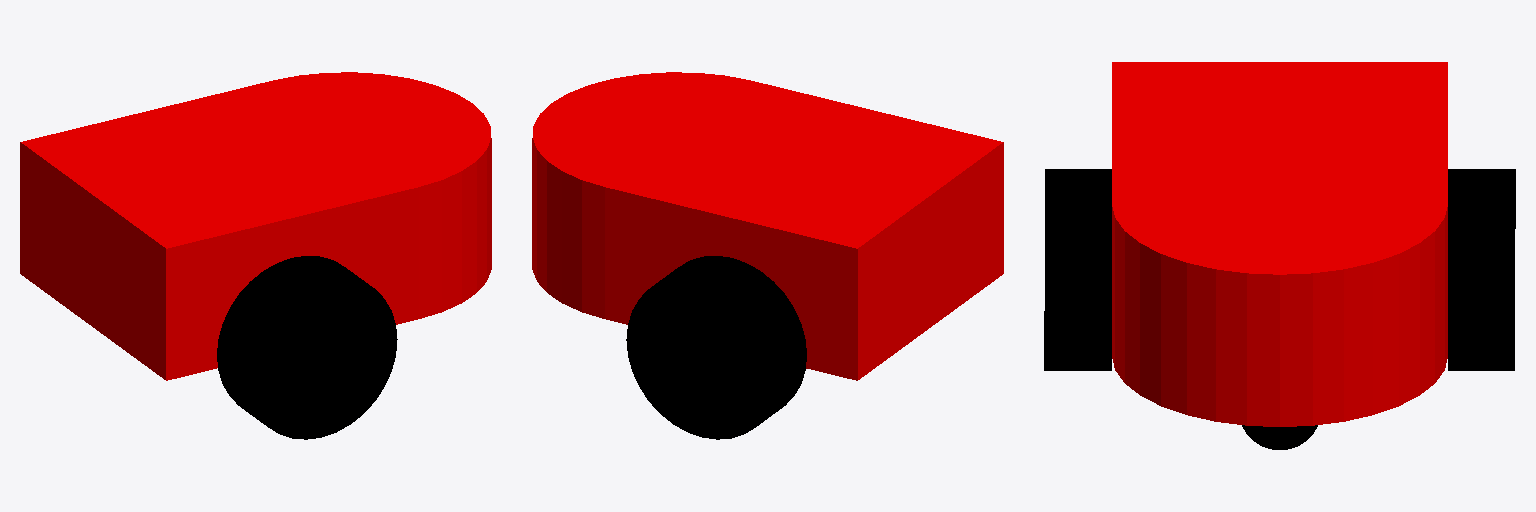
The robot description file, URDF, robot "robot":
<?xml version="1.0" ?>
<robot name="robot">

    <webots>
        <plugin type="diff_drive_sim.webots_robot_driver.RobotDriver"/>
    </webots>

    <!-- Colors -->
    <material name="red">
        <color rgba="1.0 0.0 0.0 1.0"/>
    </material>

    <material name="black">
        <color rgba="0.0 0.0 0.0 1.0"/>
    </material>

    <!-- Robot body -->
    <link name="base_link">
        <visual>
            <geometry>
                <box size="0.1 0.1 0.05"/>
            </geometry>
            <material name="red"/>
        </visual>
        <collision>
            <geometry>
                <box size="0.1 0.1 0.05"/>
            </geometry>
        </collision>
    </link>

    <joint name="base_link_to_front_frame" type="fixed">
        <parent link="base_link"/>
        <child link="front_frame"/>
        <origin xyz="0.05 0 0" rpy="0 0 0"/>
    </joint>

    <link name="front_frame">
        <visual>
            <origin xyz="0 0 0" rpy="0 0 0"/>
            <geometry>
                <cylinder radius="0.05" length="0.05"/>
            </geometry>
            <material name="red"/>
        </visual>
        <collision>
            <origin xyz="0 0 0" rpy="0 0 0"/>
            <geometry>
                <cylinder radius="0.05" length="0.05"/>
            </geometry>
        </collision>
    </link>

    <!-- Wheel 1 -->
    <joint name="motor1" type="continuous">
        <parent link="base_link"/>
        <child link="wheel1"/>
        <axis xyz="0 0 -1"/>
        <limit effort="10" velocity="10"/>
        <origin xyz="0 0.06 -0.02" rpy="1.57 0 0"/>
    </joint>

    <link name="wheel1">
        <visual>
            <origin xyz="0 0 0" rpy="0 0 0"/>
            <geometry>
                <cylinder radius="0.03" length="0.02"/>
            </geometry>
            <material name="black"/>
        </visual>
        <collision>
            <origin xyz="0 0 0" rpy="0 0 0"/>
            <geometry>
                <cylinder radius="0.03" length="0.02"/>
            </geometry>
        </collision>
    </link>

    <!-- Wheel 2 -->
    <joint name="motor2" type="continuous">
        <parent link="base_link"/>
        <child link="wheel2"/>
        <axis xyz="0 0 -1"/>
        <limit effort="10" velocity="10"/>
        <origin xyz="0 -0.06 -0.02" rpy="1.57 0 0"/>
    </joint>

    <link name="wheel2">
        <visual>
            <origin xyz="0 0 0" rpy="0 0 0"/>
            <geometry>
                <cylinder radius="0.03" length="0.02"/>
            </geometry>
            <material name="black"/>
        </visual>
        <collision>
            <origin xyz="0 0 0" rpy="0 0 0"/>
            <geometry>
                <cylinder radius="0.03" length="0.02"/>
            </geometry>
        </collision>
    </link>

    <!-- Caster Wheel -->
    <joint name="base_link_to_caster" type="fixed">
        <parent link="base_link"/>
        <child link="caster"/>
        <origin xyz="0.06 0 -0.0375" rpy="0 0 0"/>
    </joint>

    <link name="caster">
        <visual>
            <origin xyz="0 0 0" rpy="0 0 0"/>
            <geometry>
                <sphere radius="0.0125"/>
            </geometry>
            <material name="black"/>
        </visual>
        <collision>
            <origin xyz="0 0 0" rpy="0 0 0"/>
            <geometry>
                <sphere radius="0.0125"/>
            </geometry>
        </collision>
    </link>

</robot>

--- What the picture shows (computed from the rendered views, not written in the file) ---
The picture shows the robot from 3 angles, left to right: view 1: azimuth 30°, elevation 25°; view 2: azimuth 150°, elevation 25°; view 3: azimuth 270°, elevation 25°; orthographic projection.
Robot: robot — 5 links, 4 joints (2 continuous, 2 fixed); root link base_link; default pose: every joint at zero.
Visible links, largest first — view 1: base_link, front_frame, wheel2; view 2: base_link, front_frame, wheel1; view 3: front_frame, base_link, wheel1, wheel2, caster.
Link boxes in pixels (x1,y1,x2,y2): base_link: (20, 81, 418, 380); front_frame: (201, 72, 491, 318); wheel2: (217, 256, 397, 439); base_link: (605, 81, 1003, 380); front_frame: (532, 72, 822, 318); wheel1: (626, 256, 806, 439); front_frame: (1112, 133, 1447, 426); base_link: (1112, 62, 1447, 203); wheel1: (1448, 169, 1515, 370); wheel2: (1044, 169, 1111, 370); caster: (1242, 425, 1317, 449).
Size in the robot's own frame: 0.15 by 0.14 by 0.075 metres.
Geometry: primitives only (box / cylinder / sphere), no mesh files.